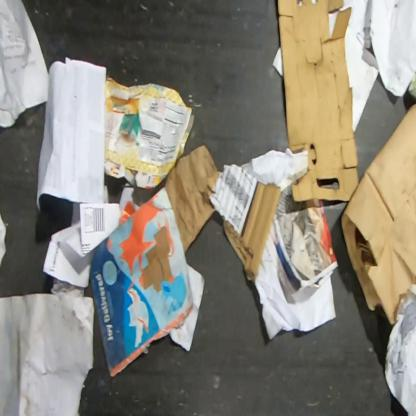cardboard: (340, 100, 415, 328), (277, 0, 359, 203), (104, 76, 195, 190), (205, 161, 283, 284)
